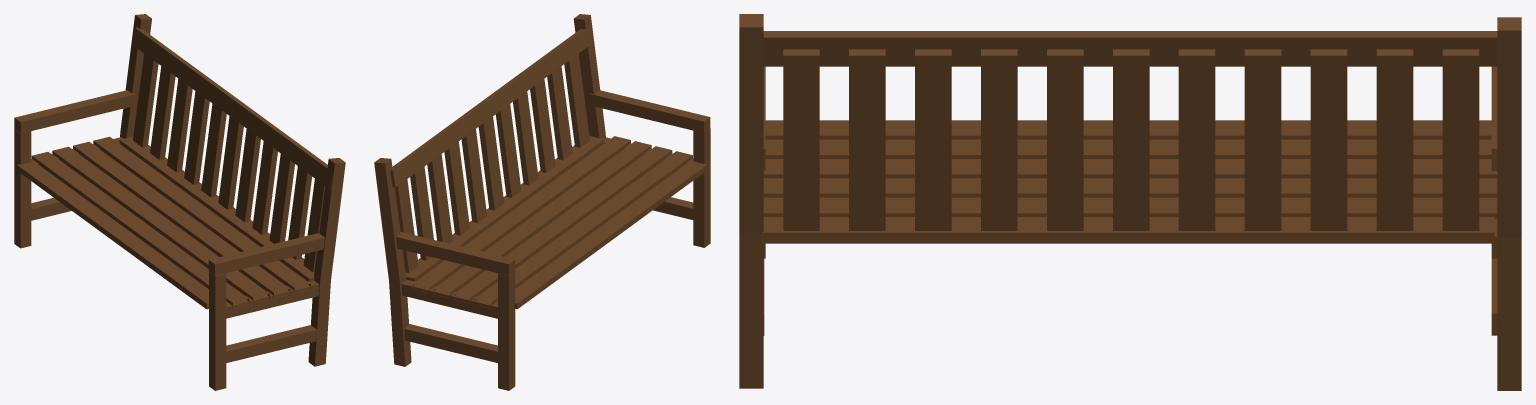
3 views of the same model, side by side, from view 1: azimuth 30°, elevation 25°; view 2: azimuth 150°, elevation 25°; view 3: azimuth 270°, elevation 25° (orthographic). The views are drawn at different scales.
Parts seen in each view (by area): view 1: Bench; view 2: Bench; view 3: Bench.
Part boxes in pixels (x1,y1,x2,y2): Bench: (14, 14, 345, 390); Bench: (374, 14, 710, 390); Bench: (739, 14, 1521, 390).
Bounding box in the file's own units: 2.2 × 3.07 × 5.68.
